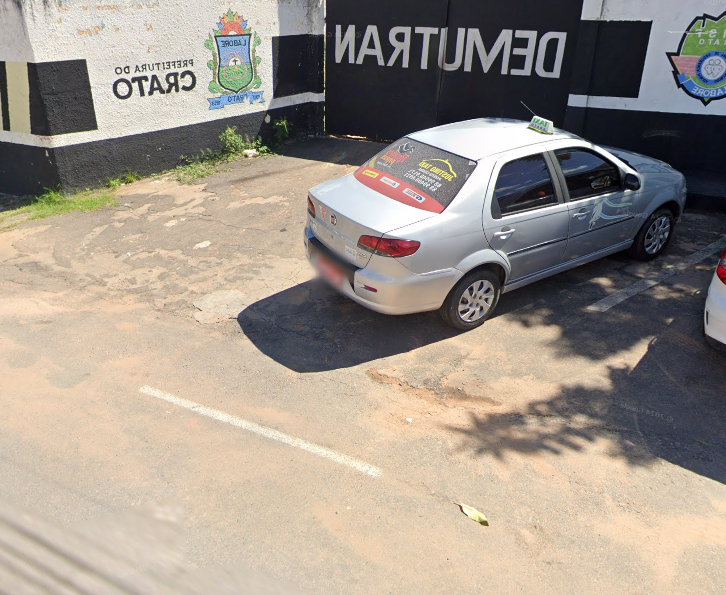car: (290, 108, 695, 345)
